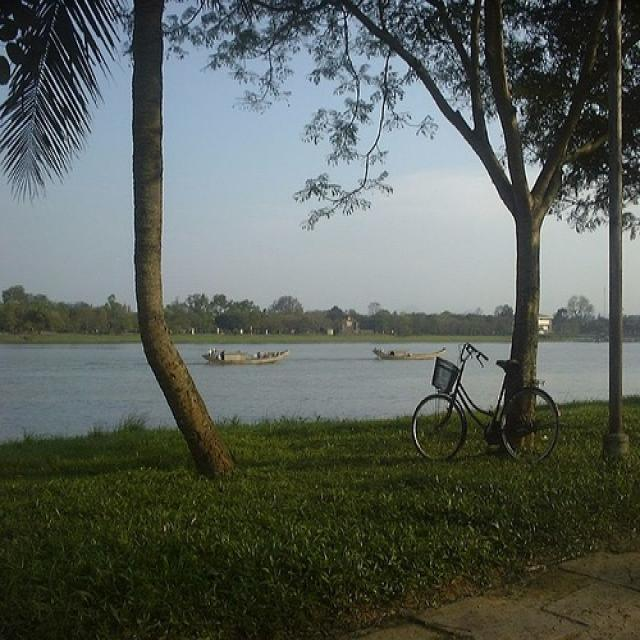bicycle: (408, 338, 562, 468)
boat: (201, 341, 292, 368), (371, 342, 449, 363)
